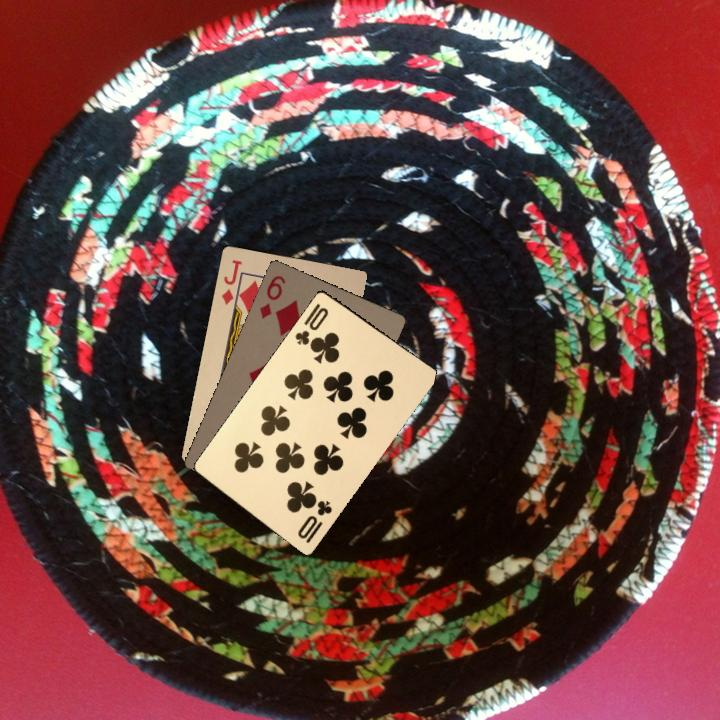10c: (293, 496, 335, 546), (291, 299, 331, 350)
6d: (255, 271, 288, 321)
Jd: (217, 256, 245, 306)
